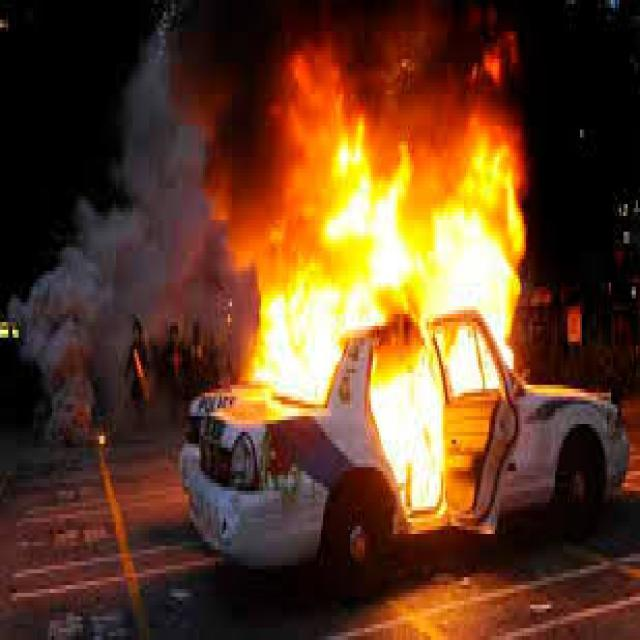Fire: (251, 15, 528, 512)
Smoke: (5, 6, 250, 440)
